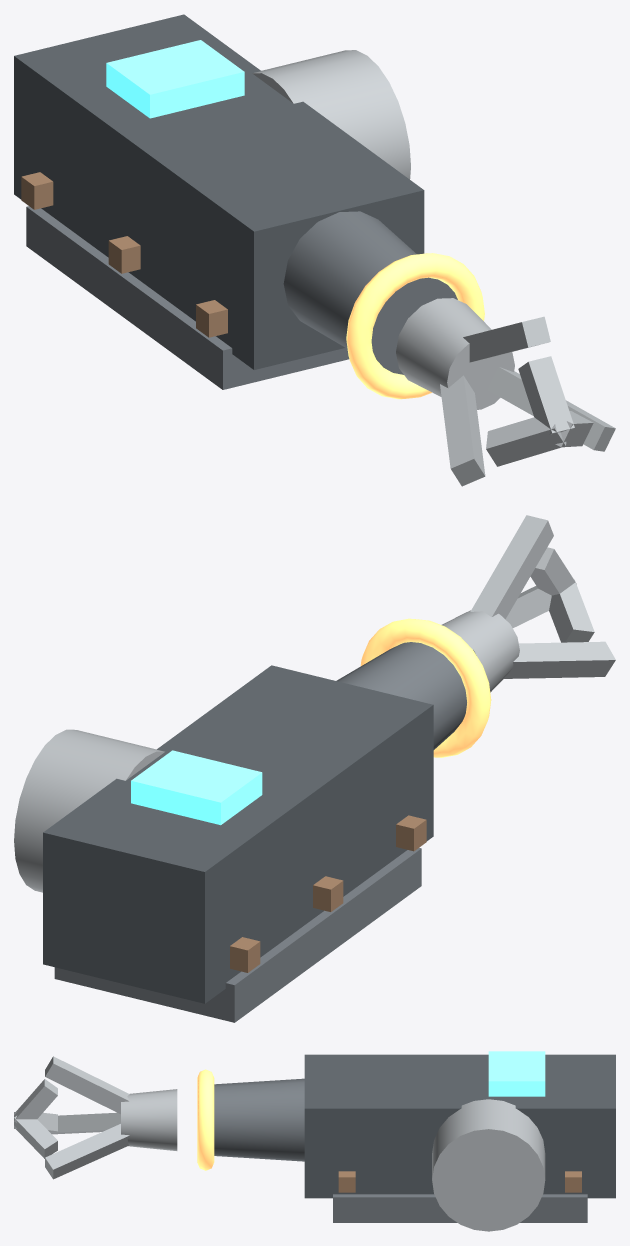
Rendered from magnetic_grapple_hook.glb.
The picture shows the model from 3 angles, top to bottom: view 1: azimuth 30°, elevation 25°; view 2: azimuth 150°, elevation 25°; view 3: azimuth 270°, elevation 25°; orthographic projection. The views are drawn at different scales.
Visible parts, largest first — view 1: magnetic_grapple_hook; view 2: magnetic_grapple_hook; view 3: magnetic_grapple_hook.
Part boxes in pixels (left/top/right/bottom): magnetic_grapple_hook: left=14, top=14, right=615, bottom=486; magnetic_grapple_hook: left=14, top=515, right=615, bottom=1022; magnetic_grapple_hook: left=14, top=1051, right=615, bottom=1231.
Bounding box in the file's own units: 0.145 × 0.104 × 0.4256.
